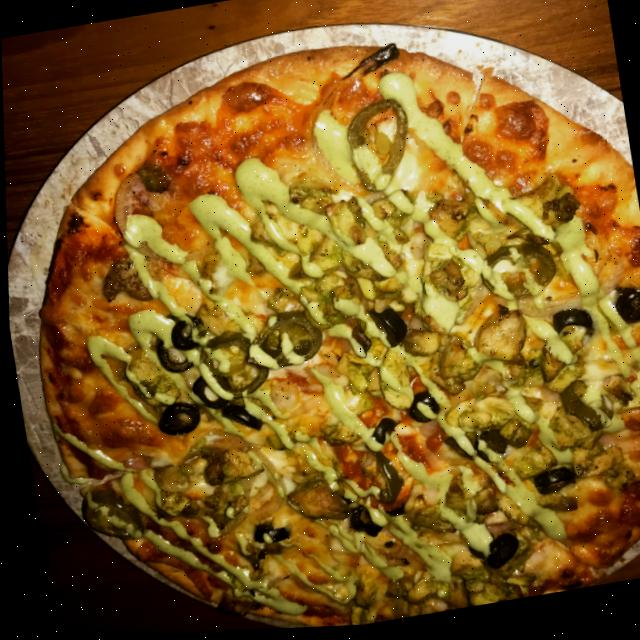black_olives: (364, 307, 406, 352), (151, 399, 199, 438), (151, 334, 190, 376), (477, 534, 516, 573), (187, 374, 226, 413), (218, 401, 259, 437), (343, 504, 379, 543), (401, 391, 438, 427), (609, 288, 640, 330), (547, 310, 590, 339), (428, 442, 468, 473), (166, 318, 196, 352), (247, 521, 286, 547), (528, 470, 570, 493), (474, 431, 504, 461), (346, 325, 371, 358)
pizza: (1, 5, 640, 640)
